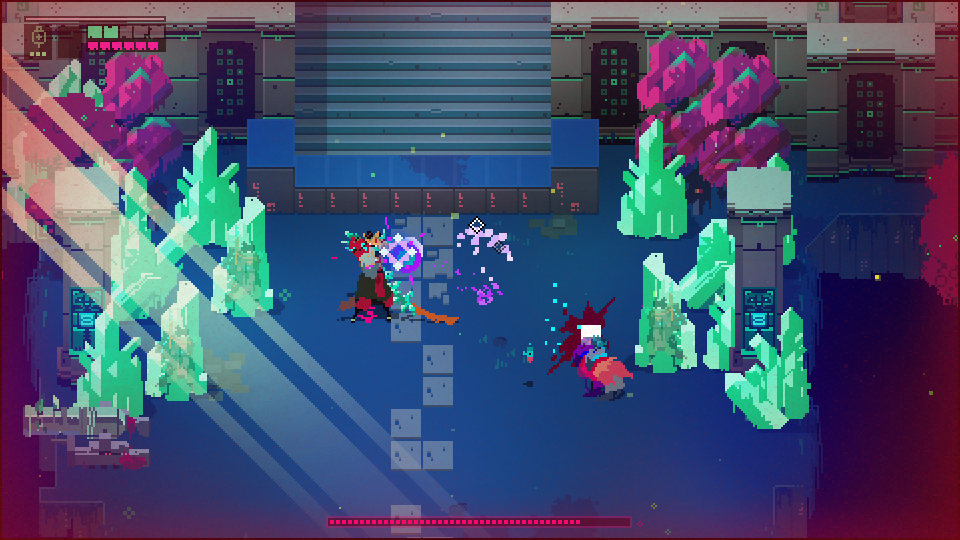hanged_man: (336, 224, 423, 329)
player: (579, 346, 637, 399)
